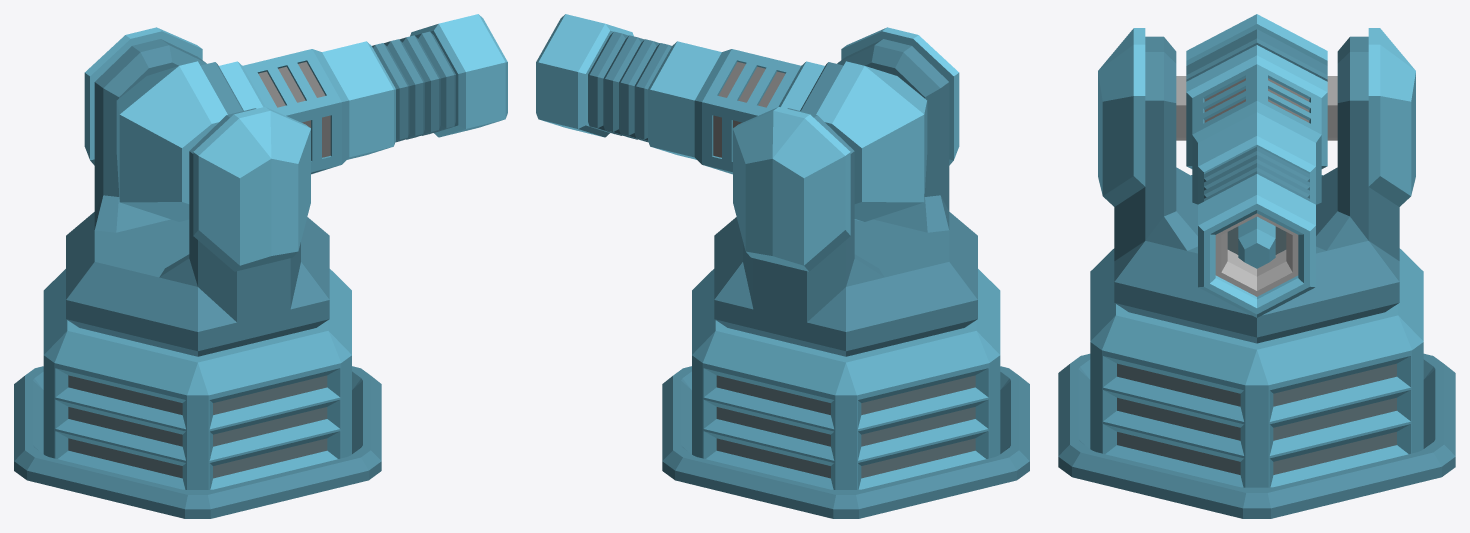
Rendered from spacestation_weapon_cannon.glb.
The picture shows the model from 3 angles, left to right: view 1: azimuth 30°, elevation 25°; view 2: azimuth 150°, elevation 25°; view 3: azimuth 270°, elevation 25°; orthographic projection. The views are drawn at different scales.
Size of the model in its own units: 2.48 by 1.9 by 1.71.
